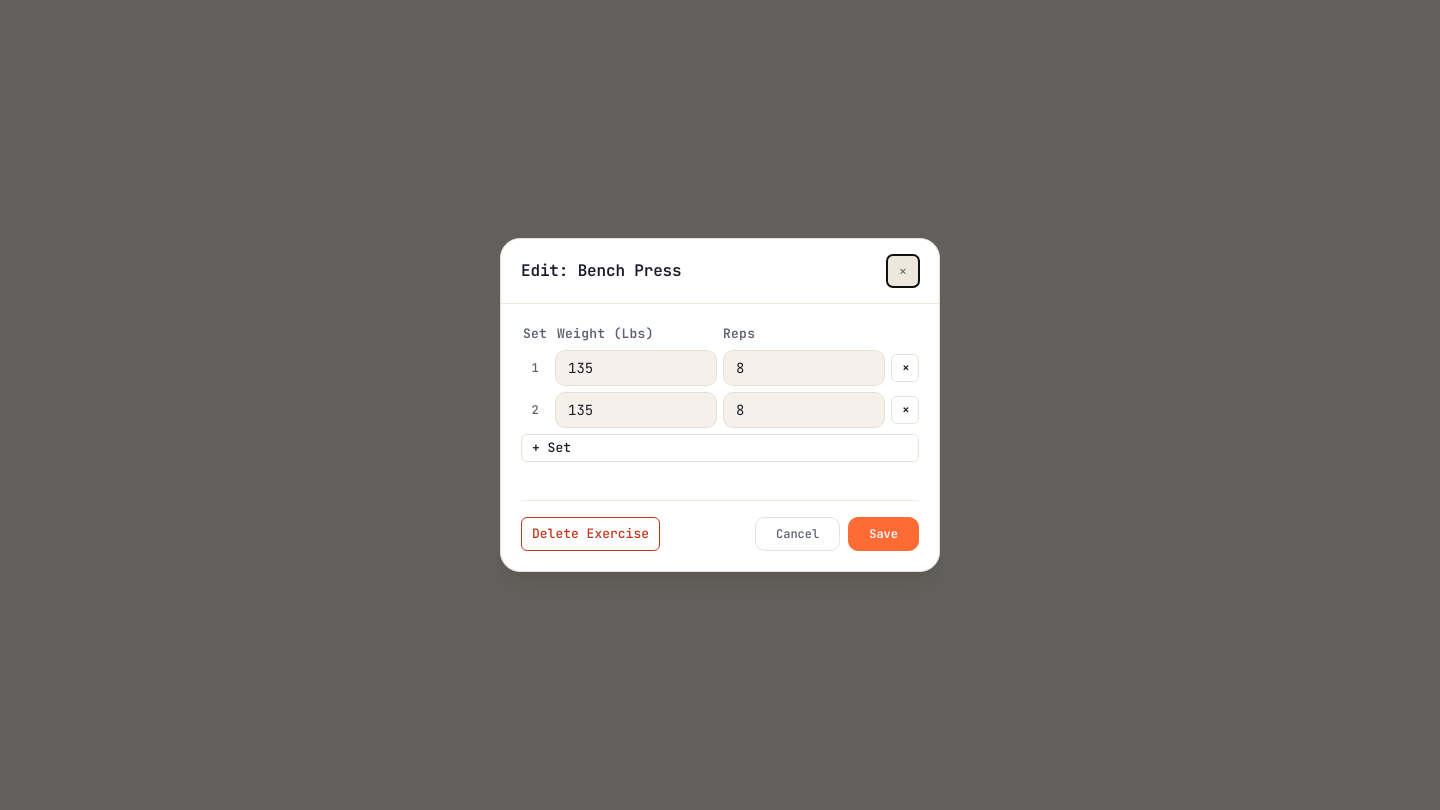
Test case: EditExerciseModal › [x] button removes a set and renumbers remaining sets
Click the 2nd button "×": (905, 368) [891,354,919,382]
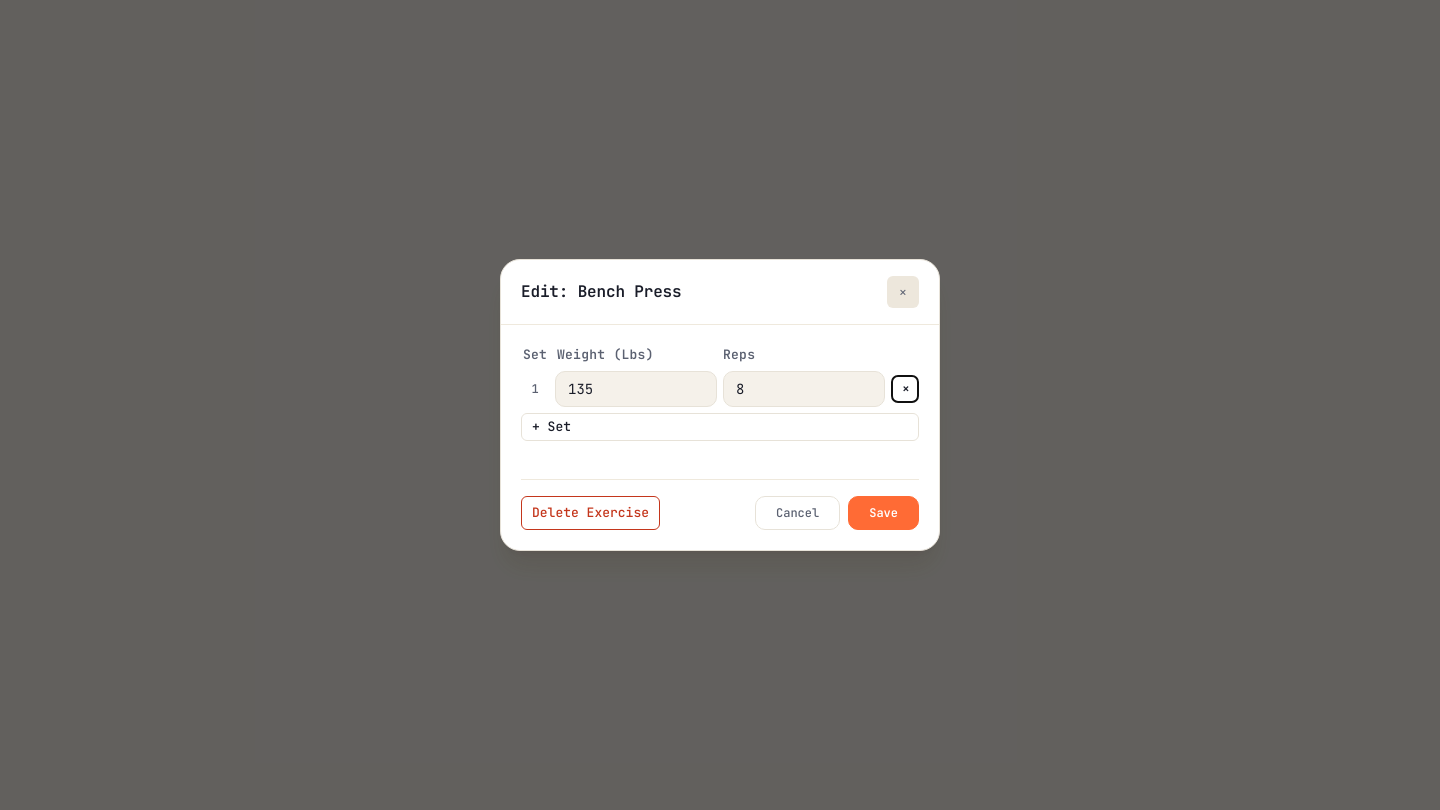
Expected: the number of buttons "×" is 1, [891,375,919,403]
